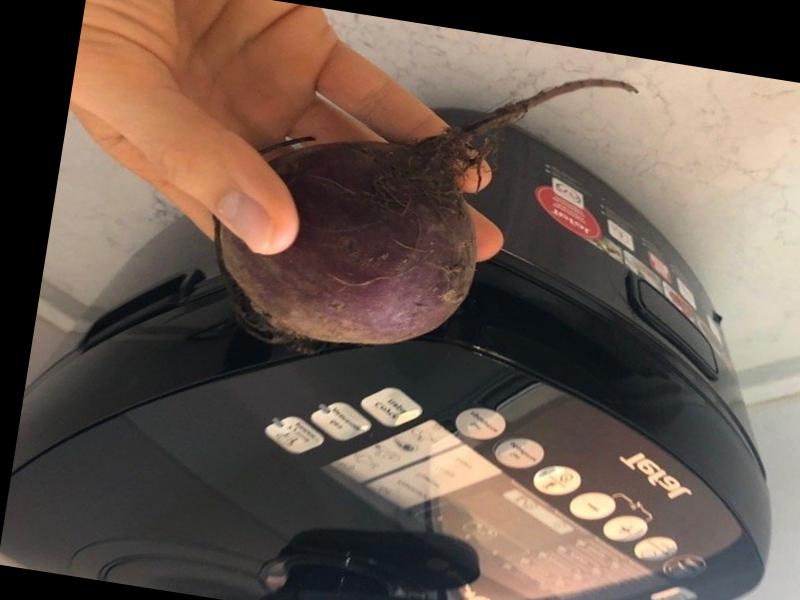Beet: (198, 24, 637, 395)
